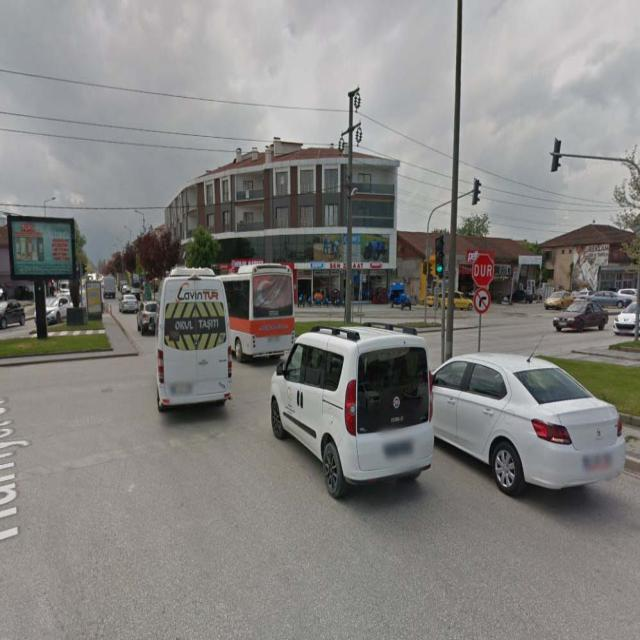dur: (472, 255, 492, 286)
sagadonulmez: (473, 288, 488, 314)
yesil: (436, 239, 444, 275)
